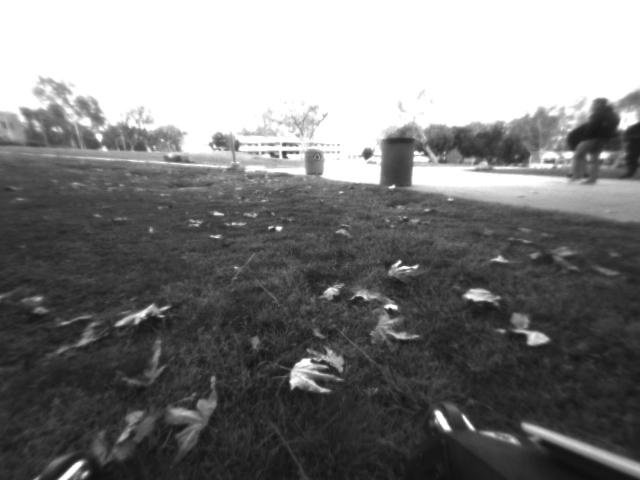trashcan: (376, 134, 414, 192), (301, 145, 328, 180)
